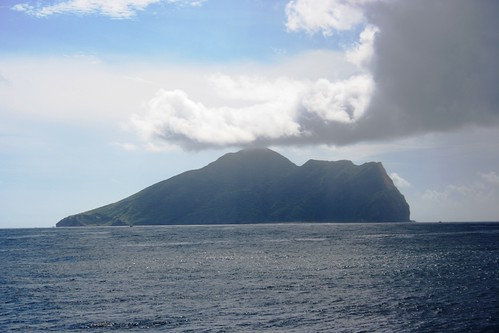turtleIsland: (54, 150, 410, 223)
